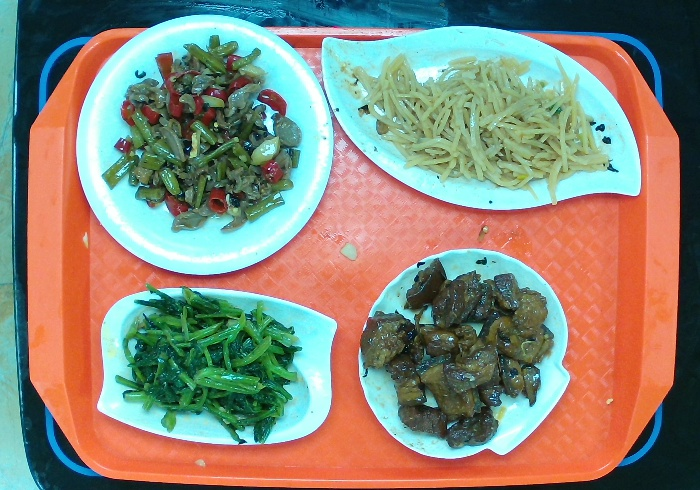RJxy-Bei_Ke_Wan: (357, 244, 572, 464)
RJxy-Jian_Jiao_Fang_Die: (93, 288, 345, 446)
RJxy-Jian_Jiao_Pan: (317, 25, 642, 212)
RJxy-Yuan_Pan: (71, 13, 337, 278)
